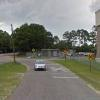Car: (29, 57, 54, 79)
